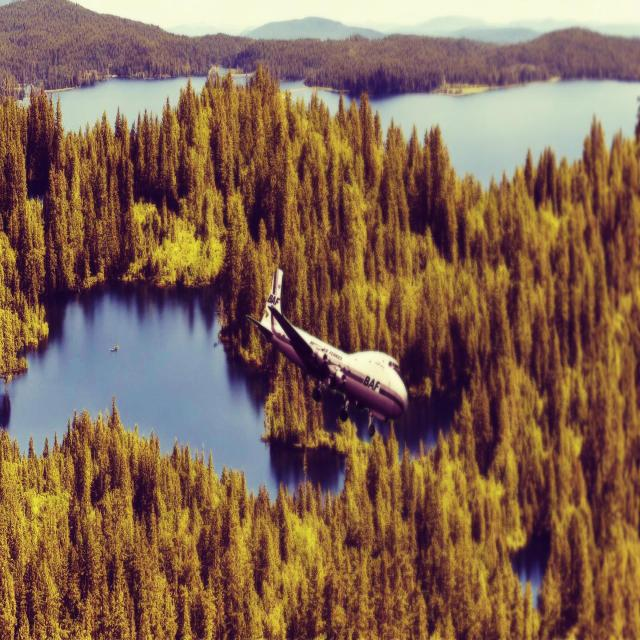airplane: (246, 266, 408, 436)
